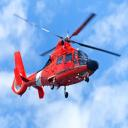helicopter: (12, 14, 123, 100)
